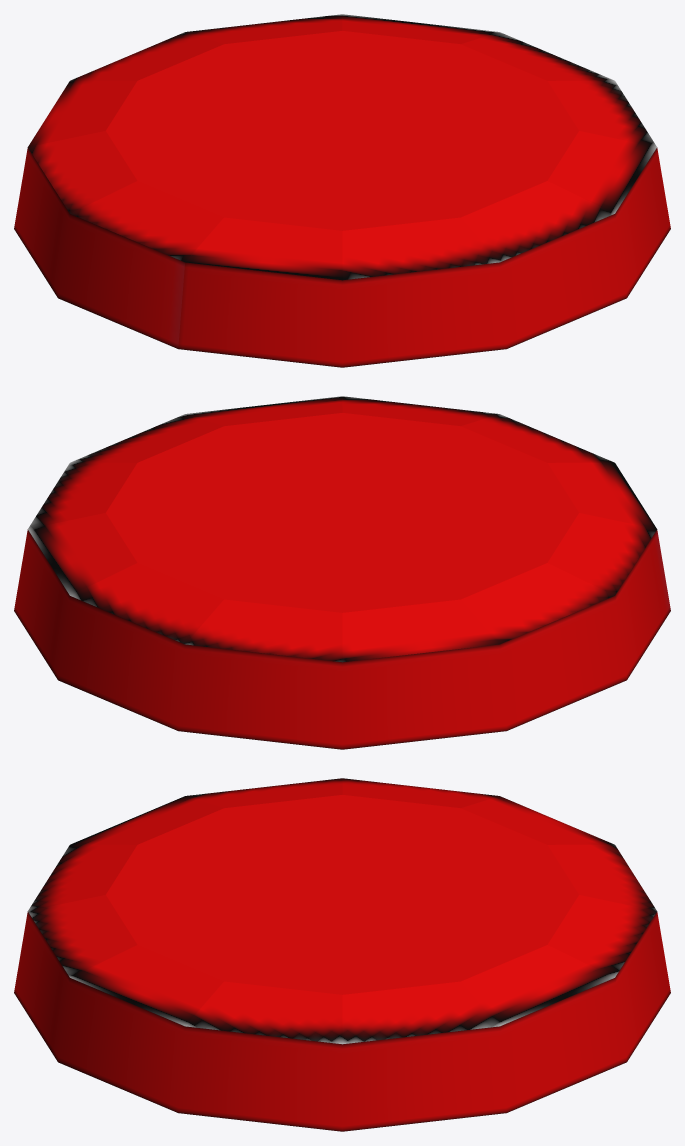
Rendered from TennisBallsContainerLid.fbx.
3 renders of one model, top to bottom at view 1: azimuth 30°, elevation 25°; view 2: azimuth 150°, elevation 25°; view 3: azimuth 270°, elevation 25°, orthographic.
Visible parts, largest first — view 1: LidTennisBallContainerLarge; view 2: LidTennisBallContainerLarge; view 3: LidTennisBallContainerLarge.
Boxes of the visible parts, x1,y1,x2,y2 form: LidTennisBallContainerLarge: (14,14,670,367); LidTennisBallContainerLarge: (14,396,670,749); LidTennisBallContainerLarge: (14,778,670,1131).
Bounding box in the file's own units: 5.94 × 0.9775 × 5.94.
